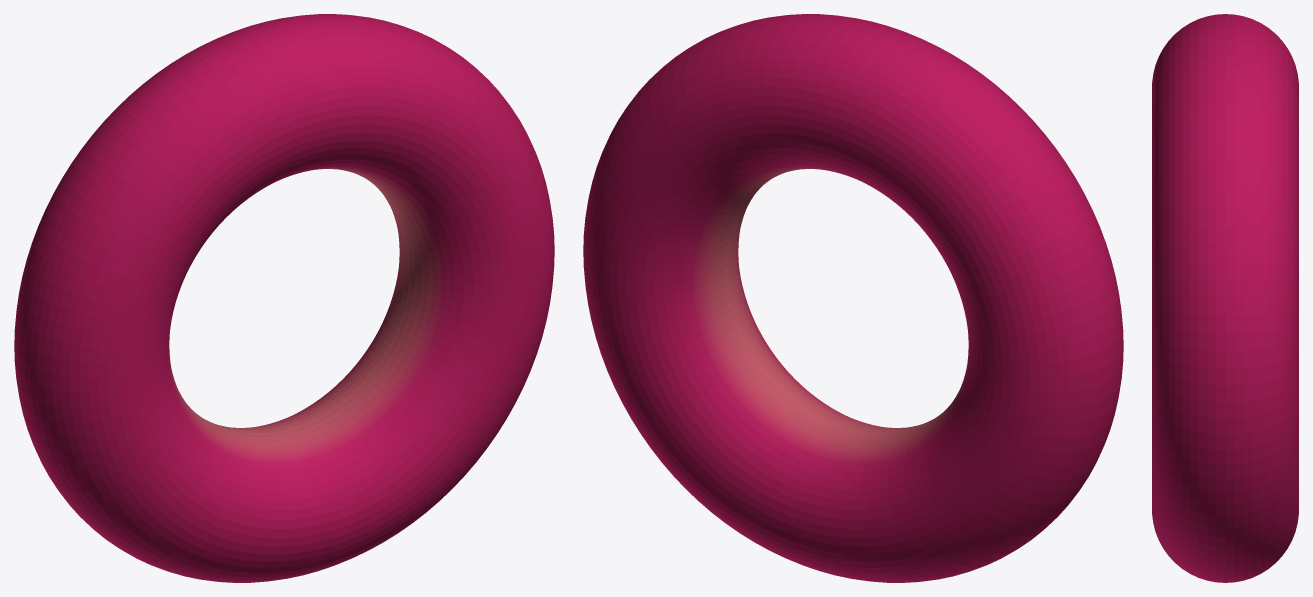
3 renders of one model, left to right at view 1: azimuth 30°, elevation 25°; view 2: azimuth 150°, elevation 25°; view 3: azimuth 270°, elevation 25°, orthographic. The views are drawn at different scales.
Parts seen in each view (by area): view 1: world; view 2: world; view 3: world.
Part boxes in pixels (<box>): world: <box>14,14,554,582</box>; world: <box>583,14,1123,582</box>; world: <box>1152,14,1298,582</box>.
Bounding box in the file's own units: 31.47 × 31.47 × 8.12.
